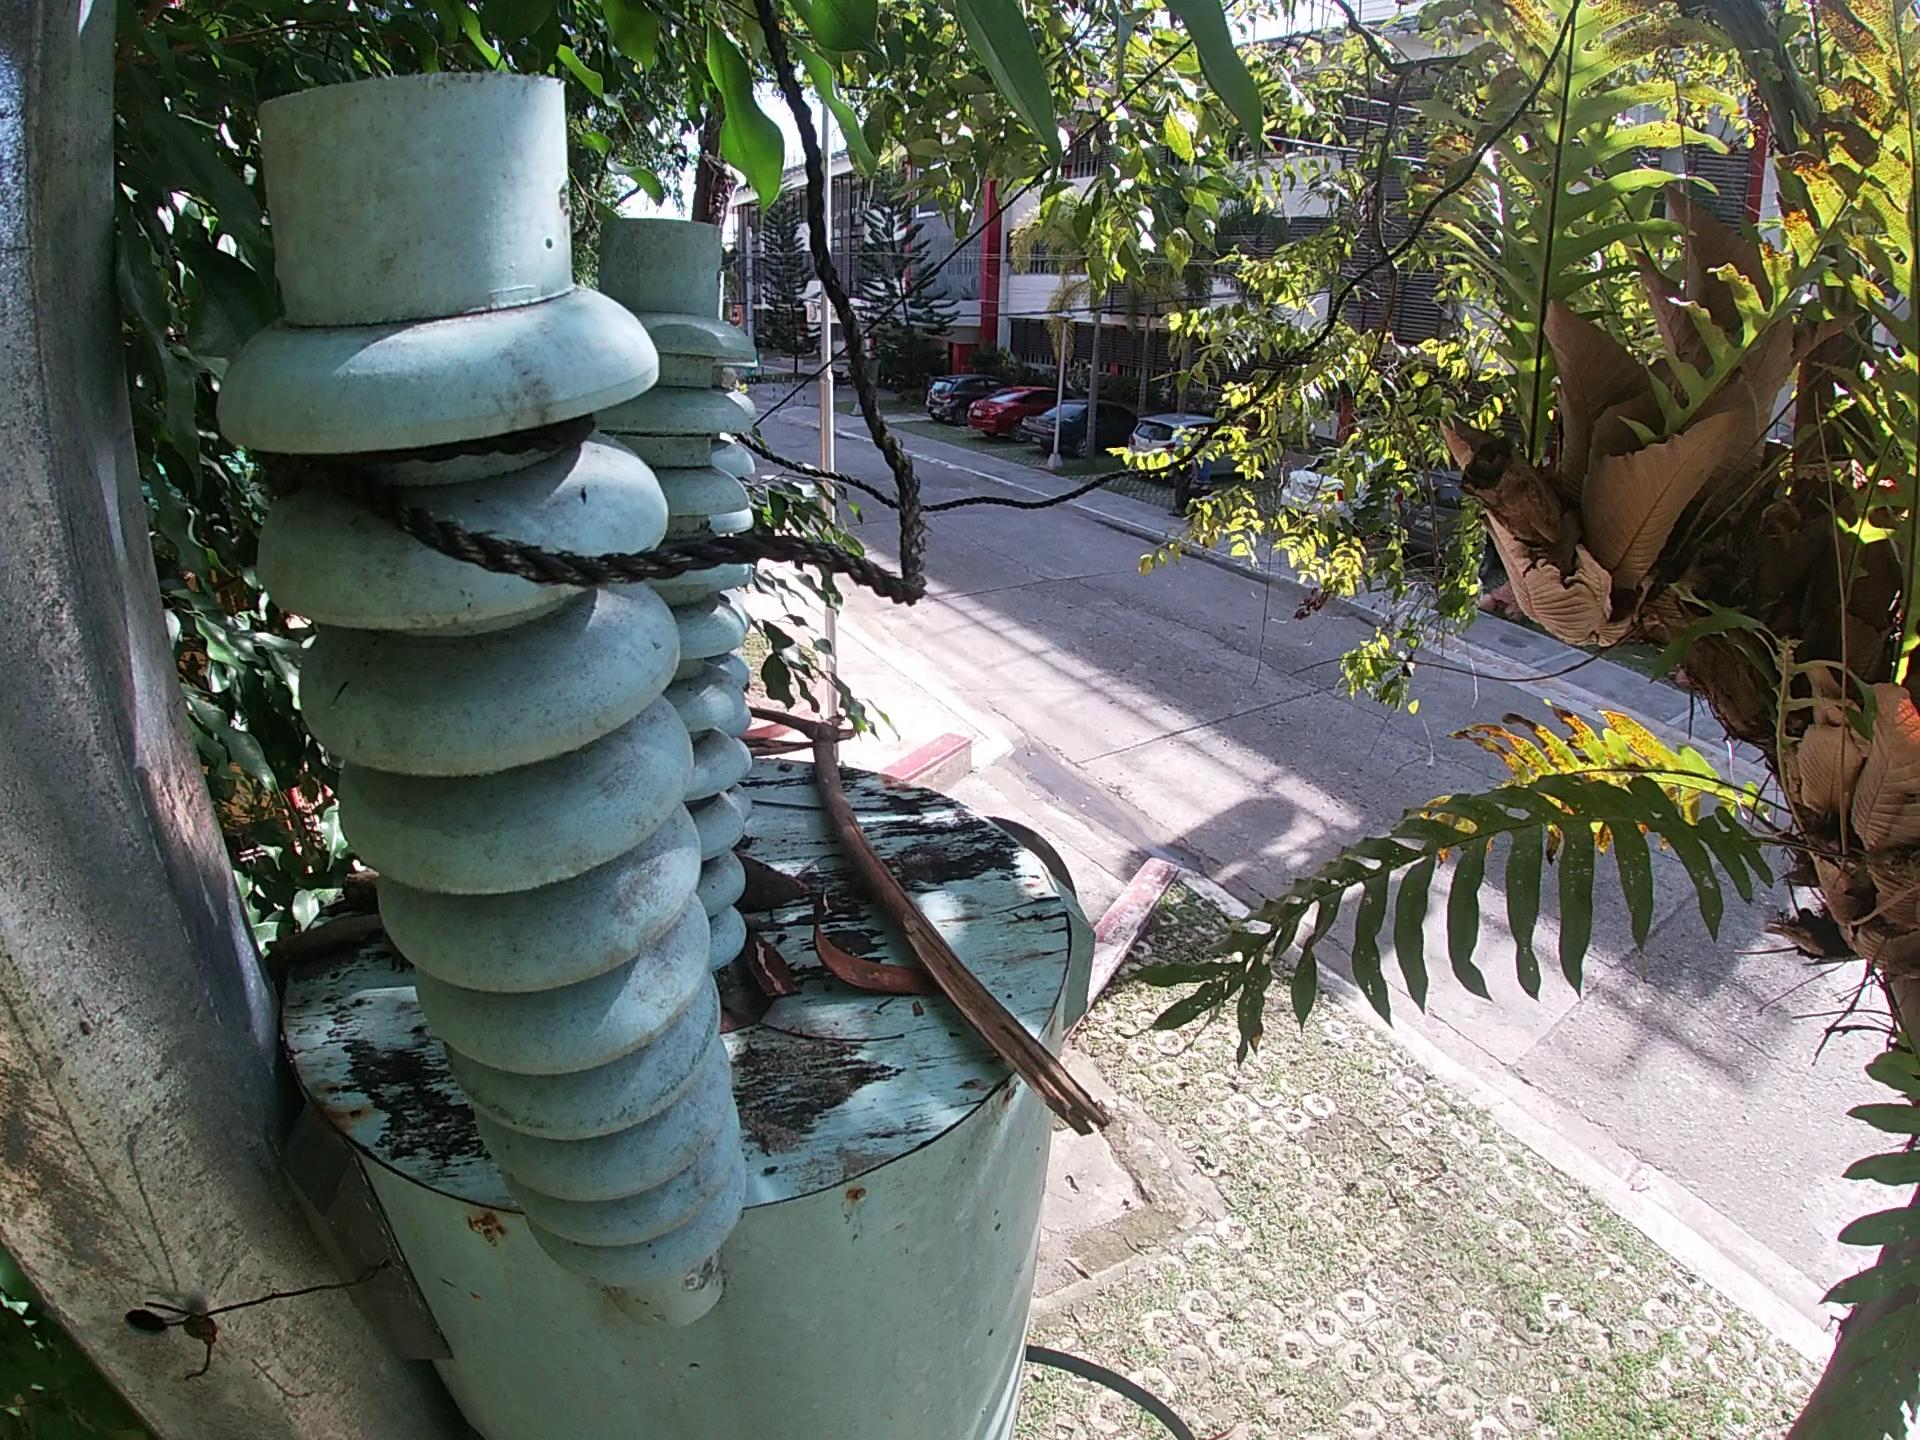mahogany fruit: (804, 886, 943, 998), (736, 926, 806, 1001), (730, 855, 809, 915)
tree branch: (742, 694, 1116, 1141), (262, 911, 395, 970), (742, 734, 819, 765)
